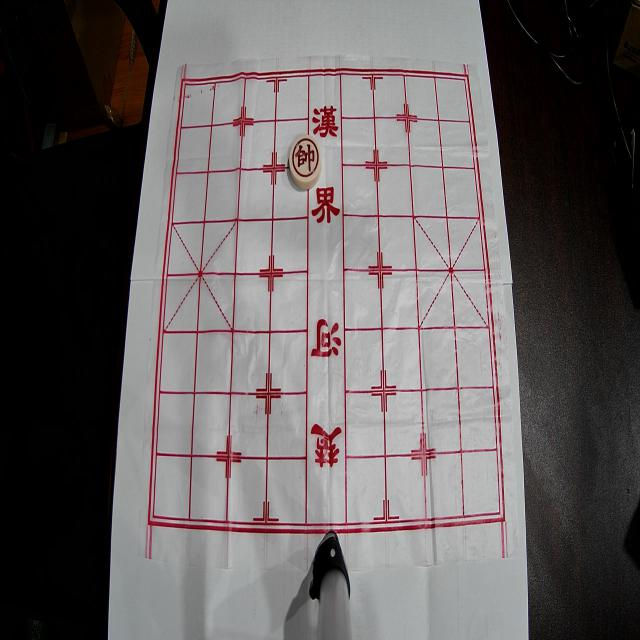red-general: (289, 135, 322, 189)
